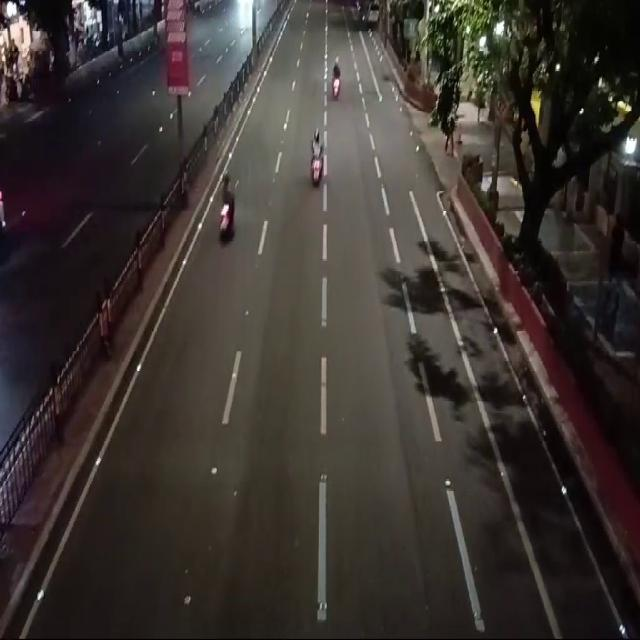motorcycle: (218, 167, 240, 245), (310, 125, 326, 191), (331, 51, 345, 104)
